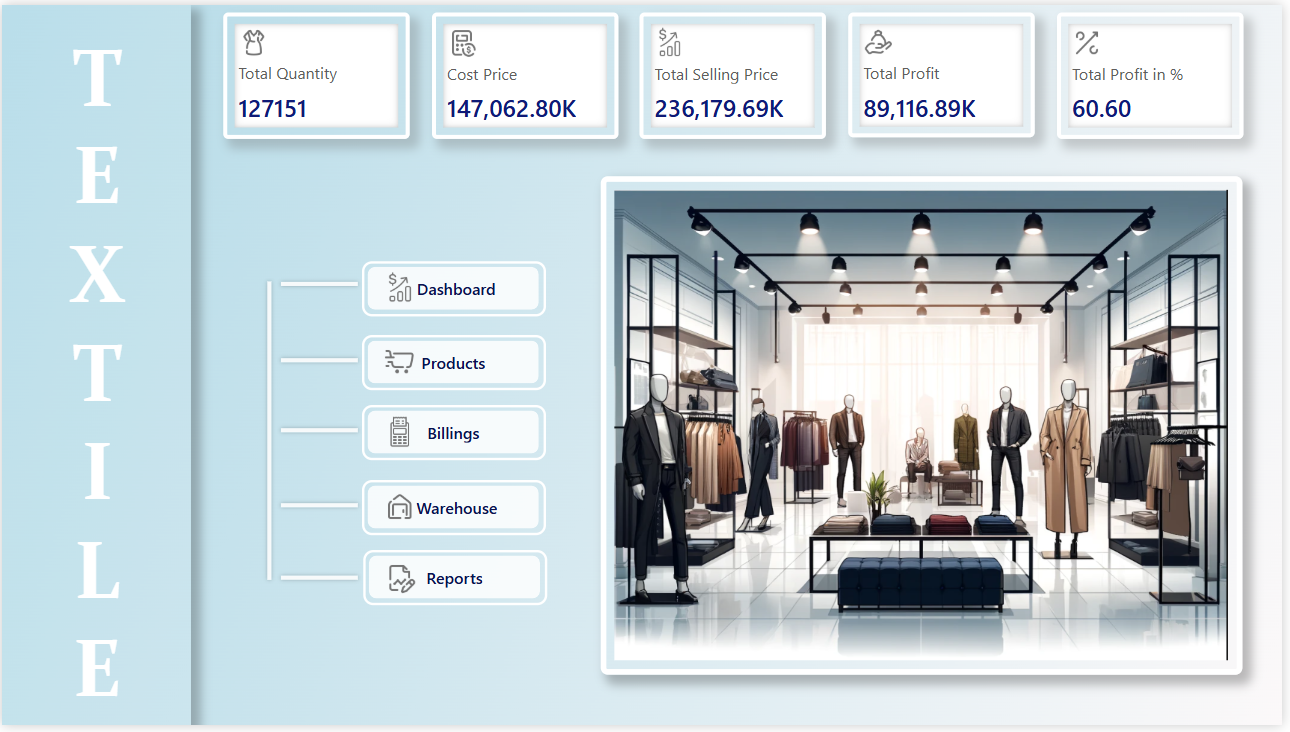

What the dashboard file says about the page in this screenshot:
{"tool":"powerbi","page":{"name":"Home","canvas":[1280,720],"ordinal":0},"visuals":[{"type":"shape","box":[0,0,188.6,720],"z":0},{"type":"cardVisual","fields":{"Data":["Sum(Garments Data.Quantity)"]},"box":[221.1,7,186,126],"z":1000},{"type":"cardVisual","fields":{"Data":["Sum(Garments Data.Total Cost)"]},"box":[429.4,7,186,126],"z":2000},{"type":"cardVisual","fields":{"Data":["Sum(Garments Data.Total Selling Price)"]},"box":[637.8,7,186,126],"z":3000},{"type":"cardVisual","fields":{"Data":["Sum(Garments Data.Total Profit)"]},"box":[846.2,7.5,186.2,125],"z":4000},{"type":"cardVisual","fields":{"Data":["DAX.Total Profit in %"]},"box":[1054.8,7,186,126],"z":5000},{"type":"actionButton","box":[359.6,399.5,183.8,55],"z":6000},{"type":"actionButton","box":[360.9,544.5,183.8,55],"z":7000},{"type":"actionButton","box":[359.6,329.5,183.8,55],"z":8000},{"type":"actionButton","box":[359.6,474.5,183.8,55],"z":9000},{"type":"actionButton","box":[359.6,255.8,183.8,55],"z":10000},{"type":"image","box":[374.9,406.3,46.2,41.2],"z":11000},{"type":"image","box":[374.9,336.3,46.2,41.2],"z":12000},{"type":"image","box":[374.9,481.3,46.2,41.2],"z":13000},{"type":"image","box":[374.9,262.5,46.2,41.2],"z":14000},{"type":"image","box":[374.9,552.5,46.2,41.2],"z":15000},{"type":"shape","box":[274.9,264.8,85,28],"z":16000},{"type":"shape","box":[254.4,273,27.5,306.2],"z":17000},{"type":"shape","box":[274.9,341,85,28],"z":18000},{"type":"shape","box":[274.9,411,85,28],"z":19000},{"type":"shape","box":[274.9,486,85,28],"z":20000},{"type":"shape","box":[274.9,558.5,85,28],"z":21000},{"type":"image","box":[598.6,171.4,641.4,498.6],"z":22000},{"type":"textbox","box":[62.9,18.6,65.7,110],"z":23000},{"type":"textbox","box":[62.9,116,65.7,111.4],"z":24000},{"type":"textbox","box":[62.9,214.8,65.7,111.4],"z":25000},{"type":"textbox","box":[62.9,313.6,65.7,111.4],"z":26000},{"type":"textbox","box":[62.9,412.4,65.7,111.4],"z":27000},{"type":"textbox","box":[62.9,511.2,65.7,110],"z":28000},{"type":"textbox","box":[62.9,608.6,65.7,111.4],"z":29000}]}

Visuals, with their boxes in screenshot pixels (x1, y1, x2, y2), scaled from the page's 1280x720 canvas onto the 1290x732 screenshot:
shape: box=[0, 0, 190, 731]
cardVisual - Sum(Garments Data.Quantity): box=[223, 7, 410, 135]
cardVisual - Sum(Garments Data.Total Cost): box=[433, 7, 620, 135]
cardVisual - Sum(Garments Data.Total Selling Price): box=[643, 7, 830, 135]
cardVisual - Sum(Garments Data.Total Profit): box=[853, 8, 1040, 135]
cardVisual - DAX.Total Profit in %: box=[1063, 7, 1250, 135]
actionButton: box=[362, 406, 548, 462]
actionButton: box=[364, 554, 549, 609]
actionButton: box=[362, 335, 548, 391]
actionButton: box=[362, 482, 548, 538]
actionButton: box=[362, 260, 548, 316]
image: box=[378, 413, 424, 455]
image: box=[378, 342, 424, 384]
image: box=[378, 489, 424, 531]
image: box=[378, 267, 424, 309]
image: box=[378, 562, 424, 604]
shape: box=[277, 269, 363, 298]
shape: box=[256, 278, 284, 589]
shape: box=[277, 347, 363, 375]
shape: box=[277, 418, 363, 446]
shape: box=[277, 494, 363, 523]
shape: box=[277, 568, 363, 596]
image: box=[603, 174, 1250, 681]
textbox: box=[63, 19, 130, 131]
textbox: box=[63, 118, 130, 231]
textbox: box=[63, 218, 130, 332]
textbox: box=[63, 319, 130, 432]
textbox: box=[63, 419, 130, 533]
textbox: box=[63, 520, 130, 632]
textbox: box=[63, 619, 130, 731]
